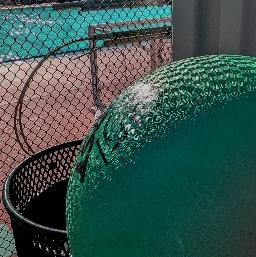algae: (78, 60, 256, 257)
